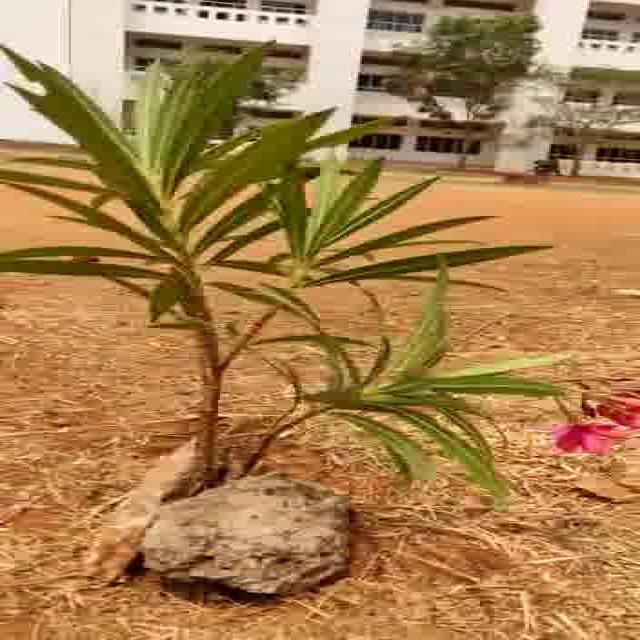Oleander: (22, 68, 640, 468)
